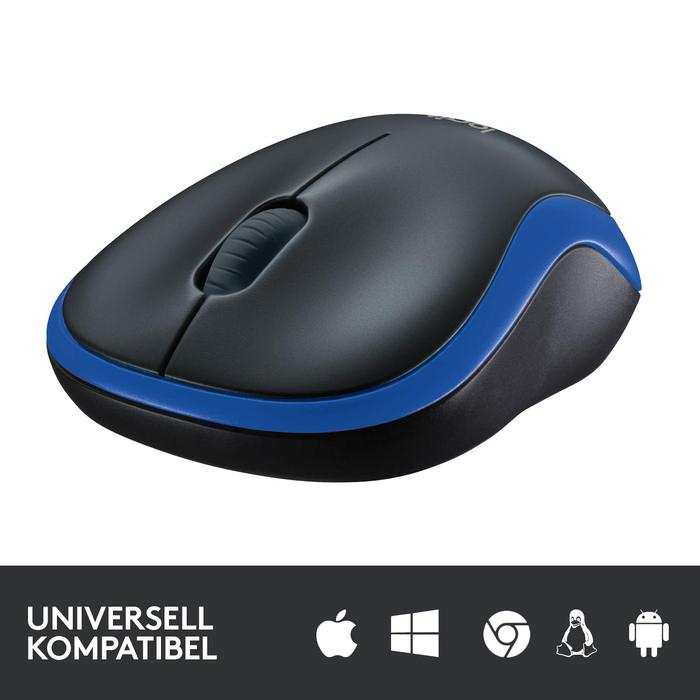logitech-mouse-m185: (39, 109, 648, 487)
